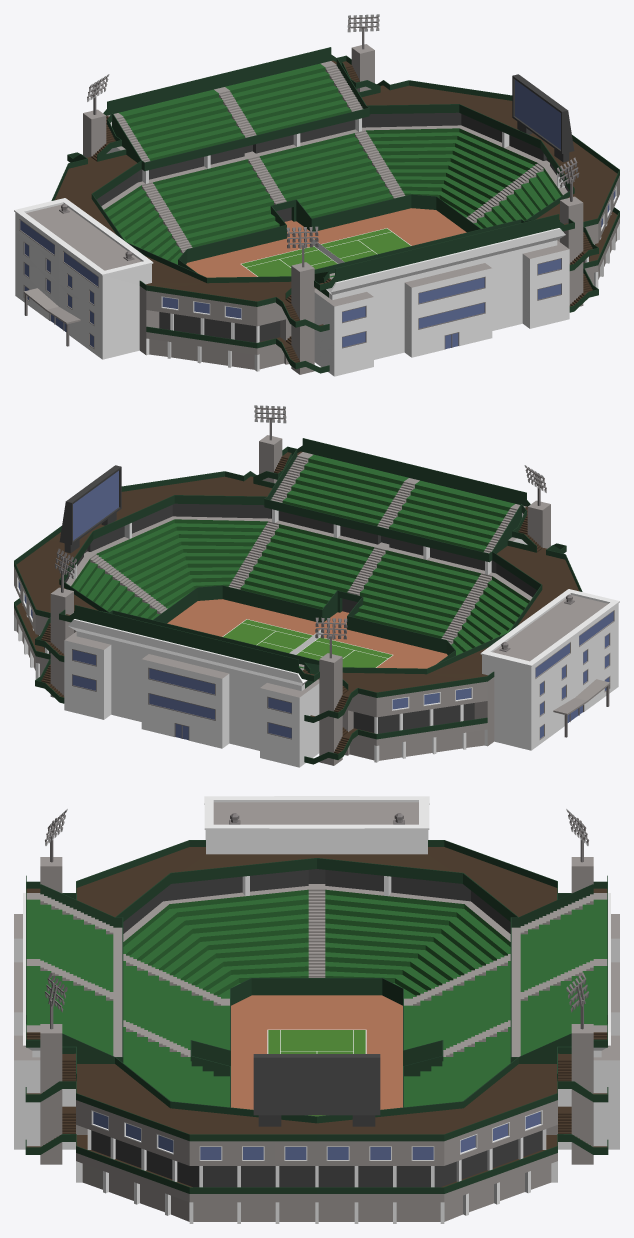
The model's file is building-stadium.fbx.
3 views of the same model, one above another, from view 1: azimuth 30°, elevation 25°; view 2: azimuth 150°, elevation 25°; view 3: azimuth 270°, elevation 25° (orthographic). The views are drawn at different scales.
Parts seen in each view (by area): view 1: building-stadium; view 2: building-stadium; view 3: building-stadium.
Boxes of the visible parts, x1=… form: building-stadium: x1=14, y1=14, x2=619, y2=376; building-stadium: x1=14, y1=405, x2=619, y2=767; building-stadium: x1=14, y1=796, x2=619, y2=1223.
Bounding box in the file's own units: 84.77 × 21.59 × 66.49.
